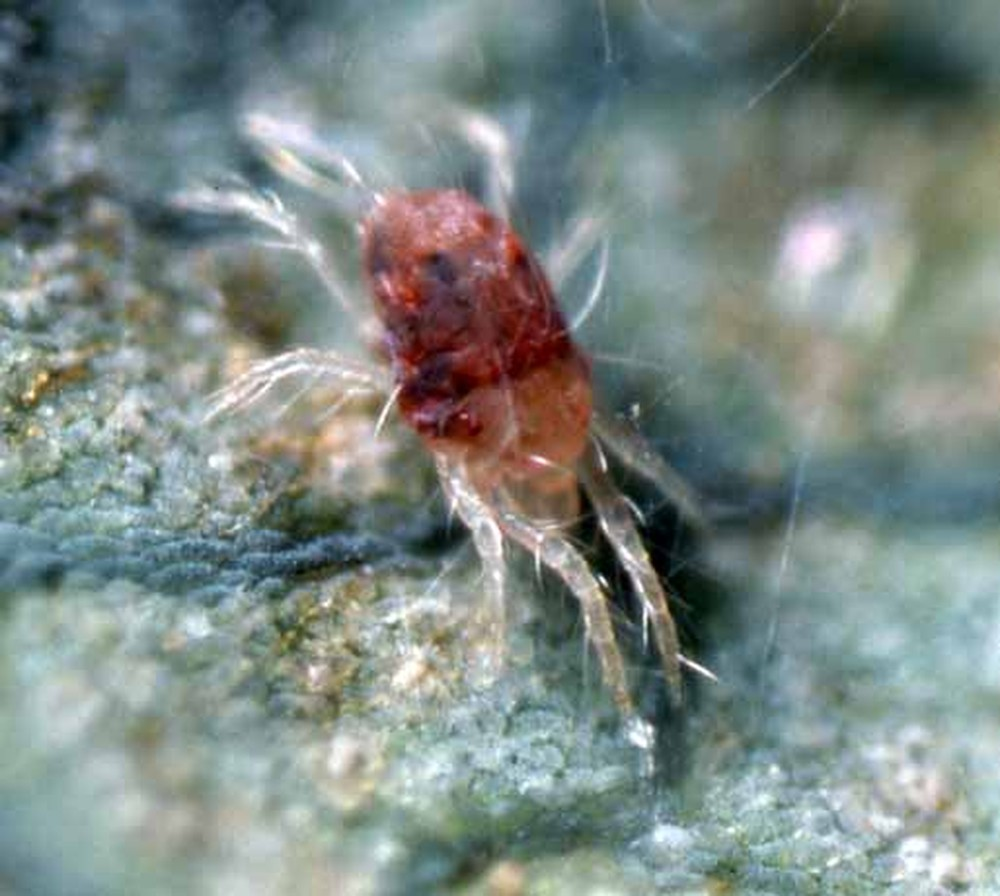Aracnido Rojo: (219, 125, 722, 723)
